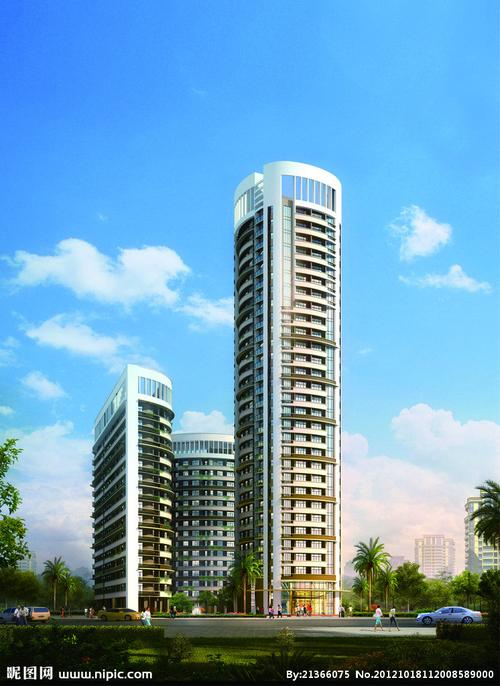buildings: (213, 187, 364, 625), (82, 370, 208, 626), (130, 406, 251, 612)
